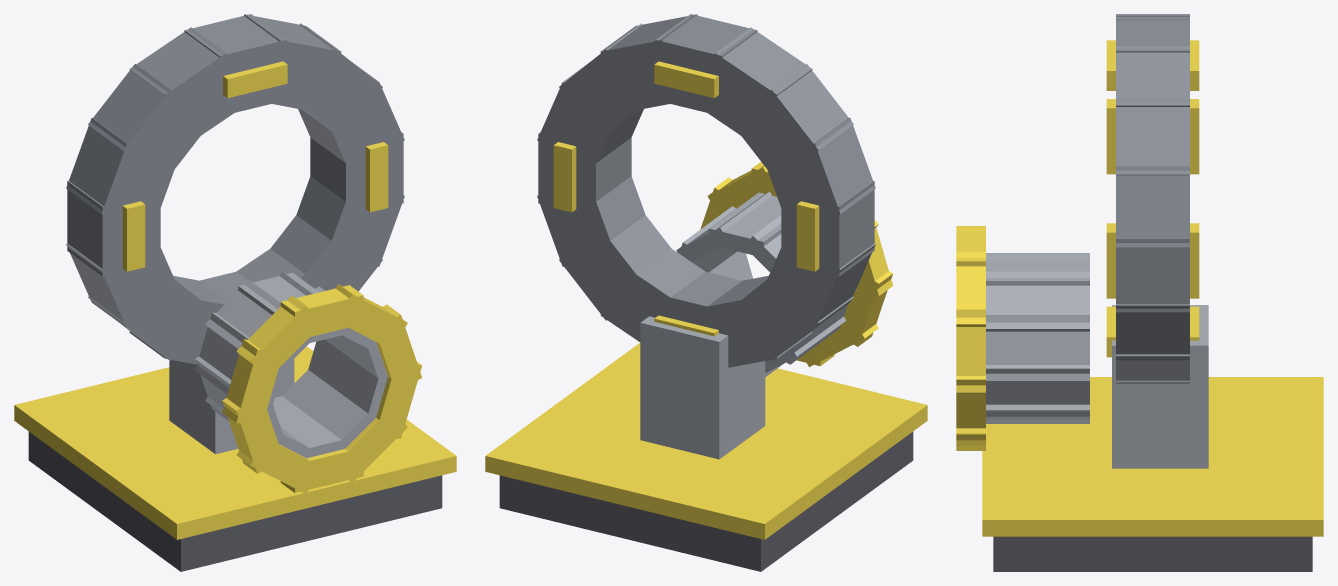
File: pipe_endless.glb
The picture shows the model from 3 angles, left to right: view 1: azimuth 30°, elevation 25°; view 2: azimuth 150°, elevation 25°; view 3: azimuth 270°, elevation 25°; orthographic projection. The views are drawn at different scales.
Visible parts, largest first — view 1: pipe_endless; view 2: pipe_endless; view 3: pipe_endless.
Boxes of the visible parts, x1,y1,x2,y2 form: pipe_endless: [14, 14, 456, 571]; pipe_endless: [485, 14, 927, 571]; pipe_endless: [956, 14, 1323, 571].
Bounding box in the file's own units: 1 × 1.42 × 1.
